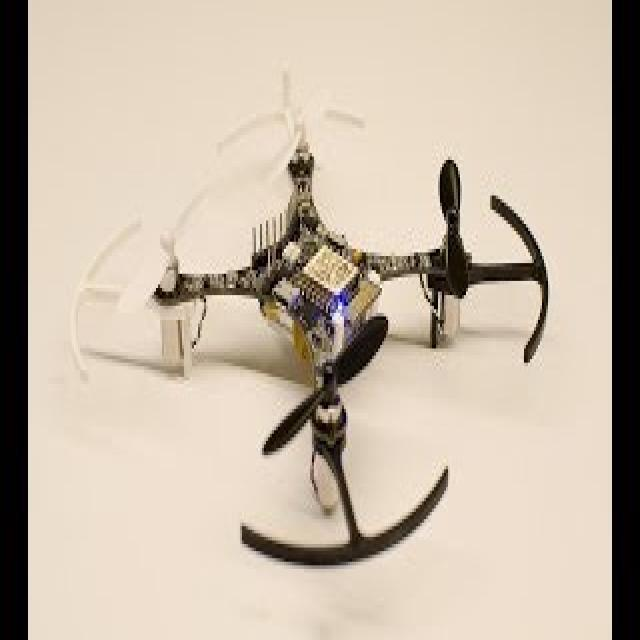drone: (69, 73, 590, 595)
